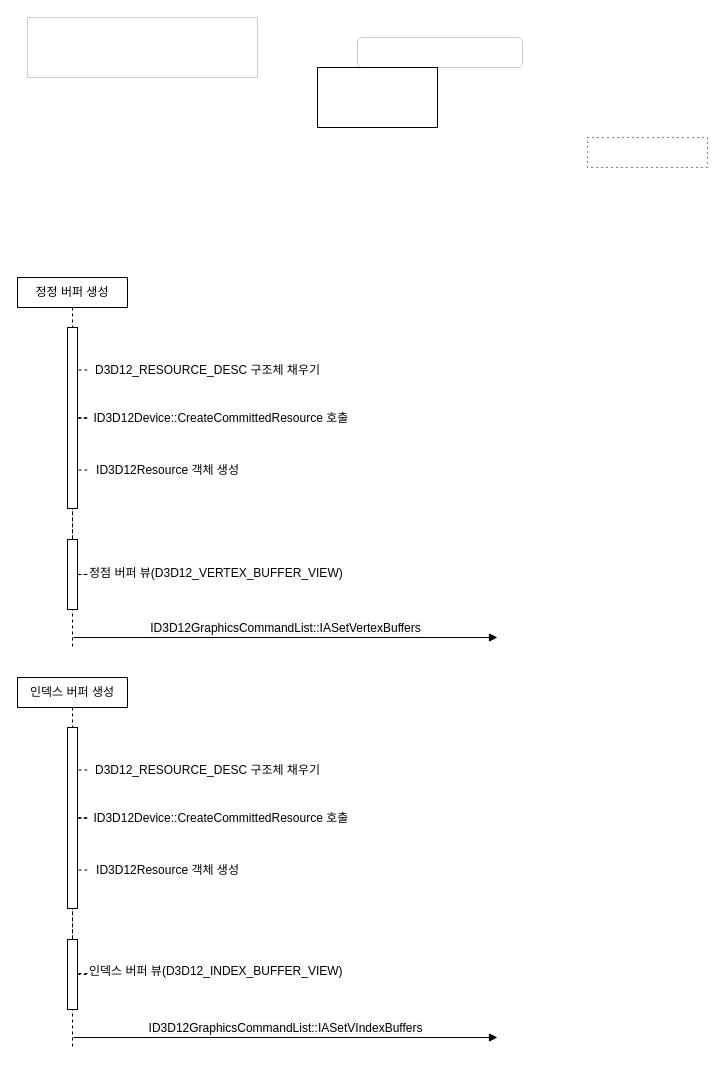
Image size: 725x1066. Some labels were removed from this diagram. Here are the shapes that lost their labels. From the top down, the centre of each, then its label:
point (142, 47): 입력 배치 서술 (Input layout Description) D3D12_INPUT_LAYOUT_DESC
point (439, 52): 정정 버퍼 생성 과정
point (377, 97): 실제로 그리는 함수는 DrawInstanced
point (647, 152): PSO
